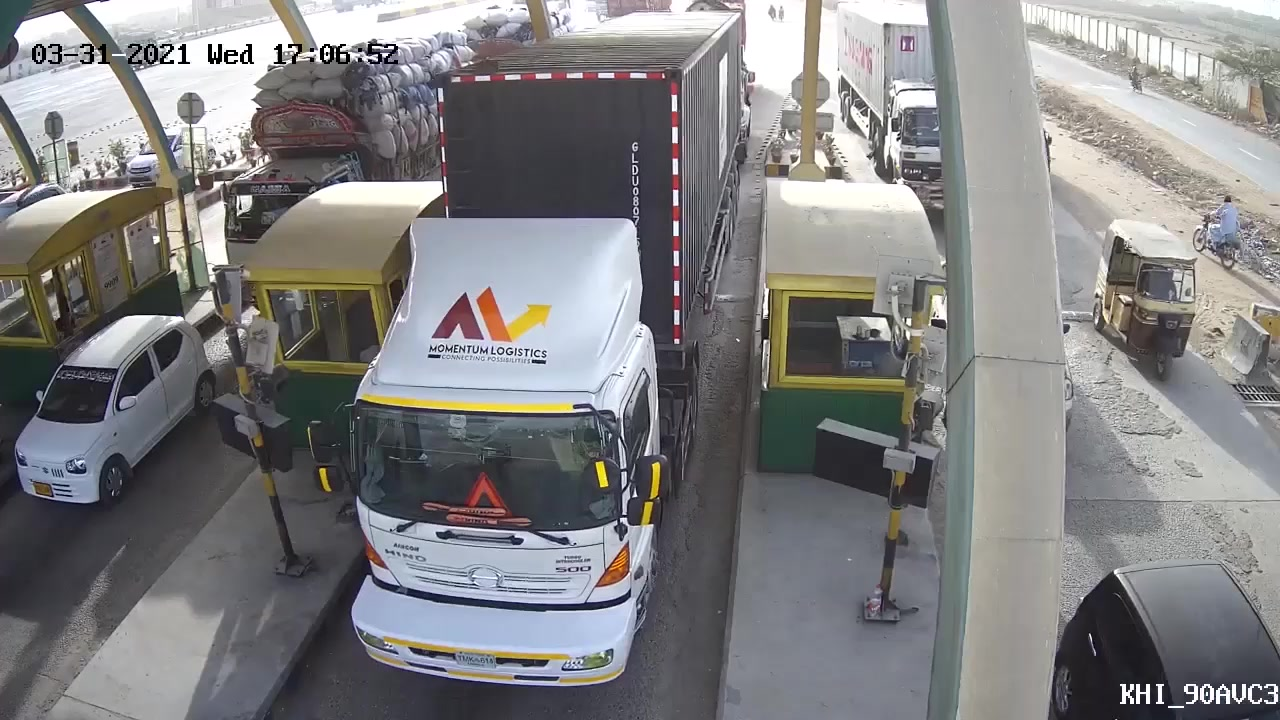F6: (331, 7, 760, 699)
